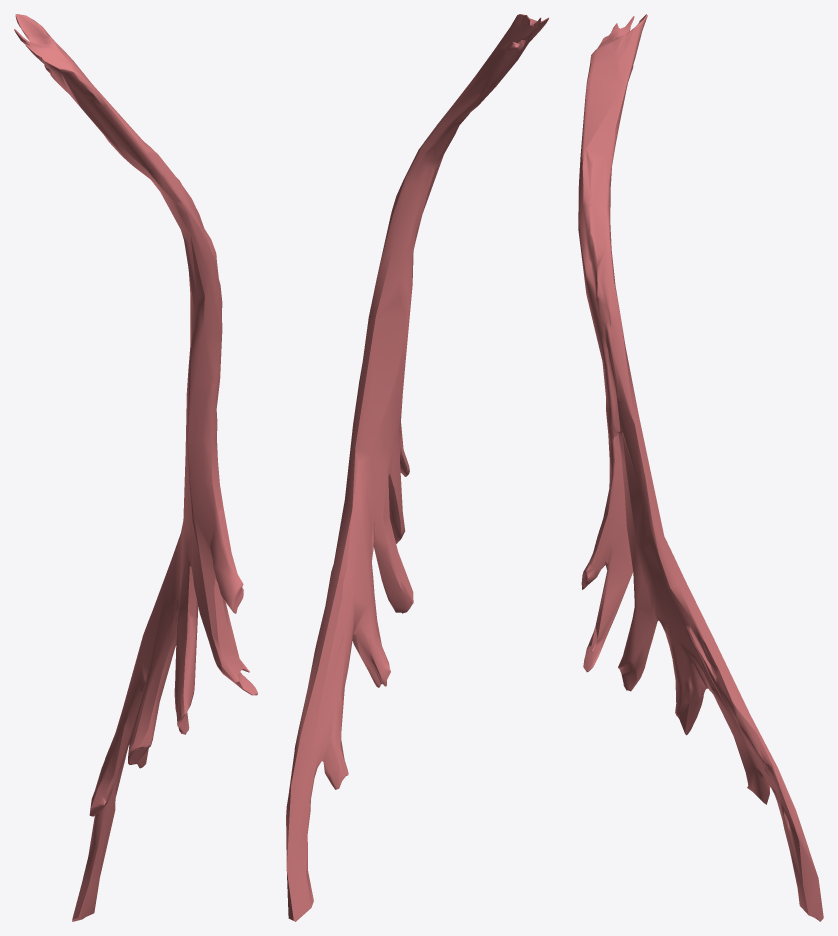
3 renders of one model, left to right at view 1: azimuth 30°, elevation 25°; view 2: azimuth 150°, elevation 25°; view 3: azimuth 270°, elevation 25°, orthographic. The views are drawn at different scales.
Parts seen in each view (by area): view 1: FJ1533; view 2: FJ1533; view 3: FJ1533.
Boxes of the visible parts, left/top/right/bottom form: FJ1533: left=14, top=14, right=257, bottom=921; FJ1533: left=286, top=14, right=548, bottom=921; FJ1533: left=578, top=14, right=823, bottom=921.
Size of the model in its own units: 0.0362 by 0.1644 by 0.0436.
